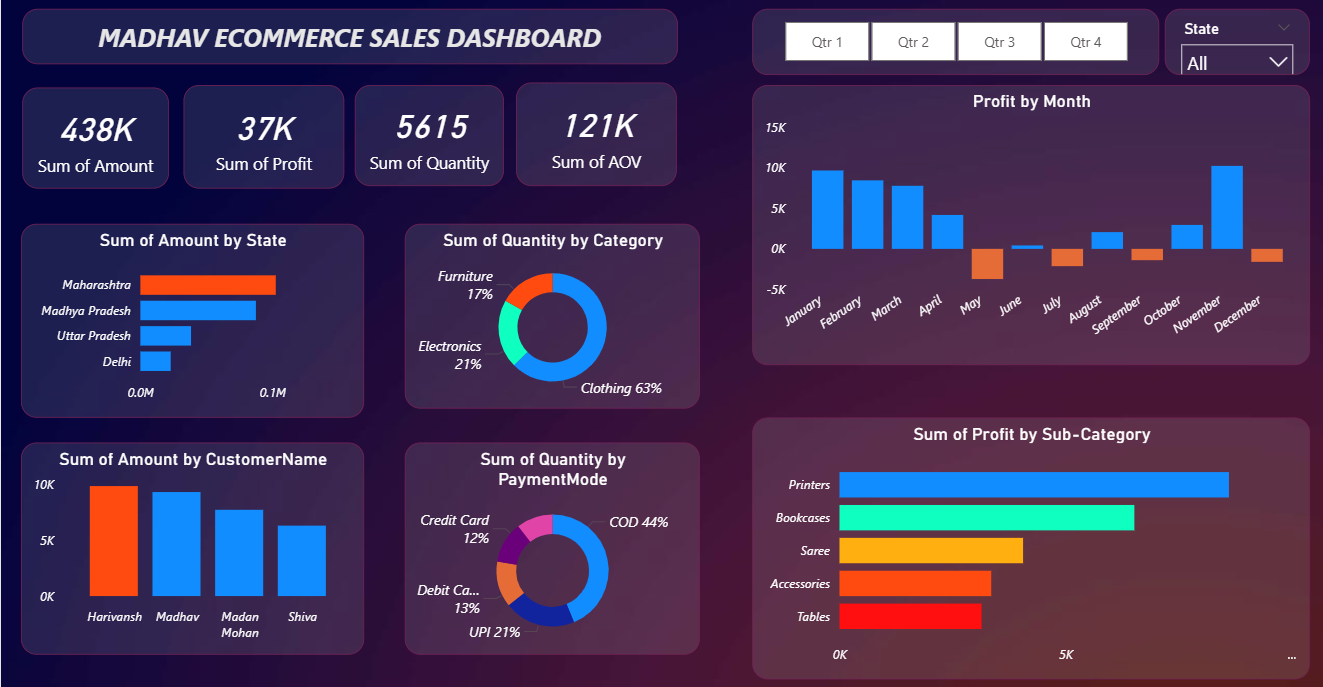

The page's visual inventory and layout, read from the dashboard file:
{"tool":"powerbi","page":{"name":"Page 1","canvas":[1280,720],"ordinal":0},"visuals":[{"type":"columnChart","title":"Profit by Month","fields":{"Y":["Sum(Details.Profit)"],"Category":["Orders.Order Date.Variation.Date Hierarchy.Month"]},"box":[725,106.2,538.8,270],"z":0},{"type":"barChart","fields":{"Category":["Details.Sub-Category"],"Y":["Sum(Details.Profit)"]},"box":[725,427.5,538.8,252.5],"z":1000},{"type":"donutChart","fields":{"Category":["Details.Category"],"Y":["Sum(Details.Quantity)"]},"box":[390,240,285,178.8],"z":2000},{"type":"donutChart","fields":{"Y":["Sum(Details.Quantity)"],"Category":["Details.PaymentMode"]},"box":[390,451.2,285,205],"z":3000},{"type":"card","fields":{"Values":["Sum(Details.Amount)"]},"box":[20,108.8,141.2,97.5],"z":4000},{"type":"card","fields":{"Values":["Sum(Details.Quantity)"]},"box":[341.2,106.2,143.8,97.5],"z":5000},{"type":"card","fields":{"Values":["Sum(Details.Profit)"]},"box":[176.2,106.2,155,100],"z":6000},{"type":"card","fields":{"Values":["Sum(Details.AOV)"]},"box":[497.5,103.8,155,100],"z":7000},{"type":"columnChart","fields":{"Category":["Orders.CustomerName"],"Y":["Sum(Details.Amount)"]},"box":[18.8,451.2,331.2,205],"z":8000},{"type":"barChart","fields":{"Y":["Sum(Details.Amount)"],"Category":["Orders.State"]},"box":[18.8,240,331.2,187.5],"z":9000},{"type":"textbox","box":[20,32.5,632.5,53.8],"z":10000},{"type":"slicer","fields":{"Values":["Orders.Order Date.Variation.Date Hierarchy.Quarter"]},"box":[725,32.5,392.5,63.8],"z":11000},{"type":"slicer","fields":{"Values":["Orders.State"]},"box":[1123.8,32.5,140,63.8],"z":12000}]}

Visuals, with their boxes on the page's 1280x720 design canvas (x1, y1, x2, y2). These are canvas units, not pixel positions in the 1323x687 screenshot, which may show the page scaled, cropped or inside an application window:
"Profit by Month" columnChart: {"x1": 725, "y1": 106, "x2": 1264, "y2": 376}
barChart - Details.Sub-Category x Sum(Details.Profit): {"x1": 725, "y1": 428, "x2": 1264, "y2": 680}
donutChart - Details.Category x Sum(Details.Quantity): {"x1": 390, "y1": 240, "x2": 675, "y2": 419}
donutChart - Sum(Details.Quantity) x Details.PaymentMode: {"x1": 390, "y1": 451, "x2": 675, "y2": 656}
card - Sum(Details.Amount): {"x1": 20, "y1": 109, "x2": 161, "y2": 206}
card - Sum(Details.Quantity): {"x1": 341, "y1": 106, "x2": 485, "y2": 204}
card - Sum(Details.Profit): {"x1": 176, "y1": 106, "x2": 331, "y2": 206}
card - Sum(Details.AOV): {"x1": 498, "y1": 104, "x2": 652, "y2": 204}
columnChart - Orders.CustomerName x Sum(Details.Amount): {"x1": 19, "y1": 451, "x2": 350, "y2": 656}
barChart - Sum(Details.Amount) x Orders.State: {"x1": 19, "y1": 240, "x2": 350, "y2": 428}
textbox: {"x1": 20, "y1": 32, "x2": 652, "y2": 86}
slicer - Orders.Order Date.Variation.Date Hierarchy.Quarter: {"x1": 725, "y1": 32, "x2": 1118, "y2": 96}
slicer - Orders.State: {"x1": 1124, "y1": 32, "x2": 1264, "y2": 96}
